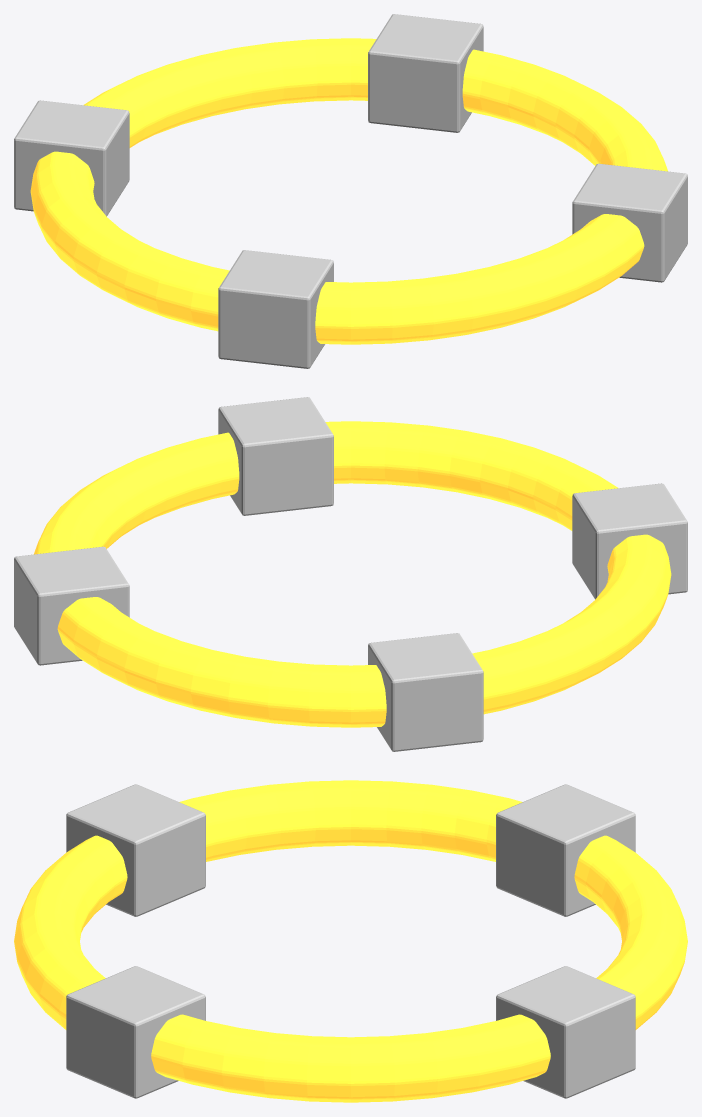
Rendered from mesopotamia_ring.fbx.
The picture shows the model from 3 angles, top to bottom: view 1: azimuth 30°, elevation 25°; view 2: azimuth 150°, elevation 25°; view 3: azimuth 270°, elevation 25°; orthographic projection. The views are drawn at different scales.
Parts seen in each view (by area): view 1: mesopotamia_ring; view 2: mesopotamia_ring; view 3: mesopotamia_ring.
Boxes of the visible parts, bbox=[...] form: mesopotamia_ring: bbox=[14, 14, 687, 368]; mesopotamia_ring: bbox=[14, 397, 687, 751]; mesopotamia_ring: bbox=[14, 780, 687, 1102].
Size of the model in its own units: 2.42 by 0.3 by 2.42.
